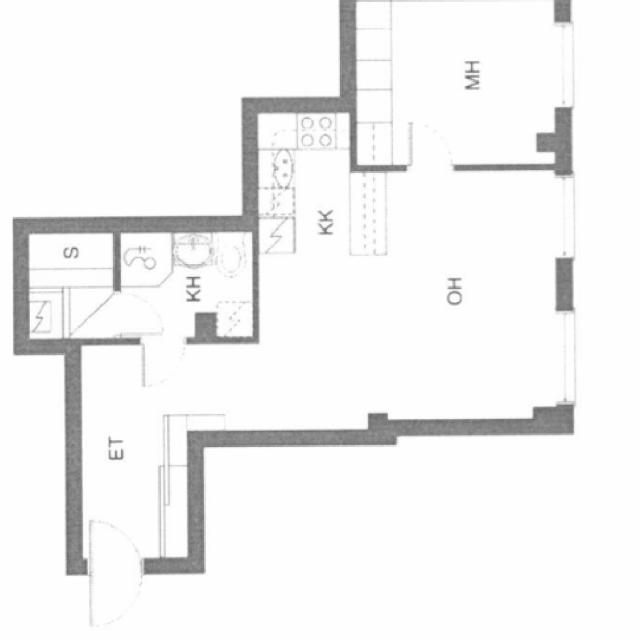door: (90, 506, 142, 574), (90, 558, 142, 625), (409, 122, 452, 170), (114, 292, 162, 333), (143, 339, 184, 386)
